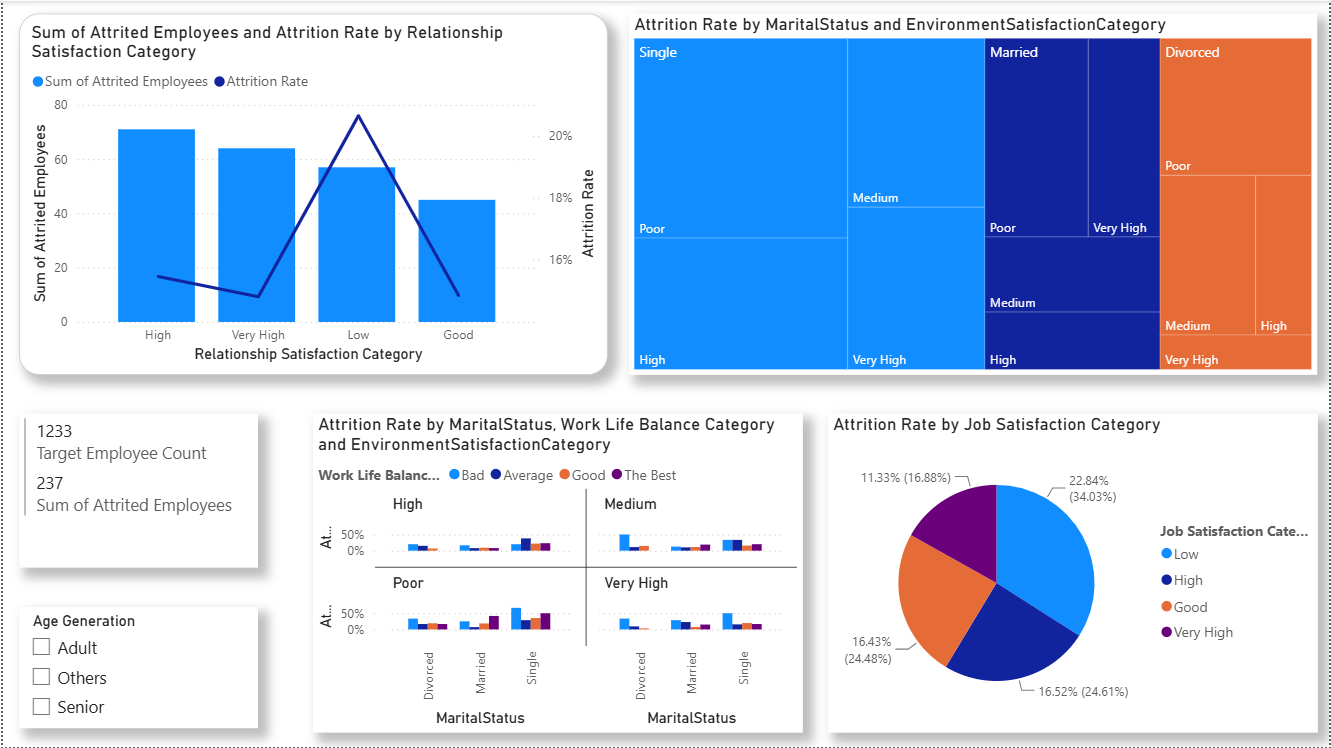

The page's visual inventory and layout, read from the dashboard file:
{"tool":"powerbi","page":{"name":"Employees Satisfaction","canvas":[1280,720],"ordinal":2},"visuals":[{"type":"slicer","fields":{"Values":["WA_Fn-UseC_-HR-Employee-Attrition.Age Generation"]},"box":[15.3,584.7,230.6,117.2],"z":0},{"type":"multiRowCard","fields":{"Values":["WA_Fn-UseC_-HR-Employee-Attrition.Target Employee Count","Sum(WA_Fn-UseC_-HR-Employee-Attrition.Attritated Employees)"]},"box":[15.3,398.7,230.6,149],"z":1000},{"type":"treemap","fields":{"Details":["WA_Fn-UseC_-HR-Employee-Attrition.EnvironmentSatisfactionCategory"],"Group":["WA_Fn-UseC_-HR-Employee-Attrition.MaritalStatus"],"Values":["WA_Fn-UseC_-HR-Employee-Attrition.Attrition Rate"]},"box":[605,12.5,663.8,348.8],"z":2000},{"type":"lineStackedColumnComboChart","fields":{"Category":["WA_Fn-UseC_-HR-Employee-Attrition.Relationship Satisfaction Category"],"Y":["Sum(WA_Fn-UseC_-HR-Employee-Attrition.Attritated Employees)"],"Y2":["WA_Fn-UseC_-HR-Employee-Attrition.Attrition Rate"]},"box":[15.3,11.5,568.2,349],"z":3000},{"type":"clusteredColumnChart","fields":{"Category":["WA_Fn-UseC_-HR-Employee-Attrition.MaritalStatus"],"Rows":["WA_Fn-UseC_-HR-Employee-Attrition.EnvironmentSatisfactionCategory"],"Series":["WA_Fn-UseC_-HR-Employee-Attrition.Work Life Balance Category"],"Y":["WA_Fn-UseC_-HR-Employee-Attrition.Attrition Rate"]},"box":[299.4,398.7,472.6,308.3],"z":4000},{"type":"pieChart","fields":{"Category":["WA_Fn-UseC_-HR-Employee-Attrition.Job Satisfaction Category"],"Y":["WA_Fn-UseC_-HR-Employee-Attrition.Attrition Rate"]},"box":[796.2,398.7,472.6,308.3],"z":5000}]}

Visuals, with their boxes in screenshot pixels (x1, y1, x2, y2), scaled from the page's 1280x720 canvas onto the 1331x748 screenshot:
slicer - WA_Fn-UseC_-HR-Employee-Attrition.Age Generation: (16, 607, 256, 729)
multiRowCard - WA_Fn-UseC_-HR-Employee-Attrition.Target Employee Count x Sum(WA_Fn-UseC_-HR-Employee-Attrition.Attritated Employees): (16, 414, 256, 569)
treemap - WA_Fn-UseC_-HR-Employee-Attrition.EnvironmentSatisfactionCategory x WA_Fn-UseC_-HR-Employee-Attrition.MaritalStatus: (629, 13, 1319, 375)
lineStackedColumnComboChart - WA_Fn-UseC_-HR-Employee-Attrition.Relationship Satisfaction Category x Sum(WA_Fn-UseC_-HR-Employee-Attrition.Attritated Employees): (16, 12, 607, 375)
clusteredColumnChart - WA_Fn-UseC_-HR-Employee-Attrition.MaritalStatus x WA_Fn-UseC_-HR-Employee-Attrition.EnvironmentSatisfactionCategory: (311, 414, 803, 734)
pieChart - WA_Fn-UseC_-HR-Employee-Attrition.Job Satisfaction Category x WA_Fn-UseC_-HR-Employee-Attrition.Attrition Rate: (828, 414, 1319, 734)
